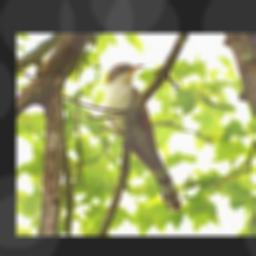Cuckoo: (103, 62, 184, 213)
